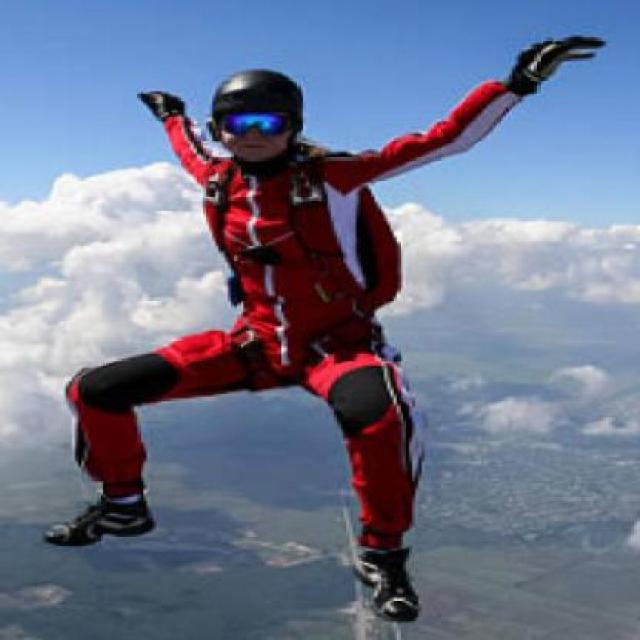fall: (48, 31, 600, 624)
